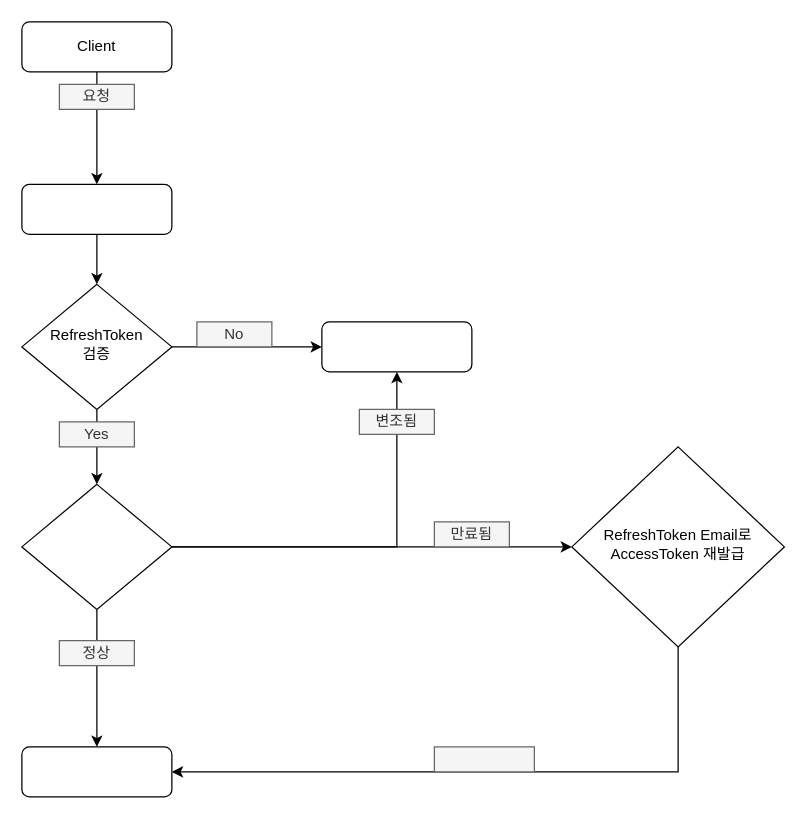
The diagram is 806 pixels wide and 819 high, and some of its shapes have lost their labels. The box of each missing label's shape, as (x1, y1, x2, y2) in pixels:
AccessToken 검증: (21, 483, 172, 609)
JWT 필터: (21, 183, 172, 234)
로그인 화면: (321, 321, 472, 372)
요청에 대한 처리: (21, 746, 172, 797)
재발급 완료: (433, 746, 534, 772)
